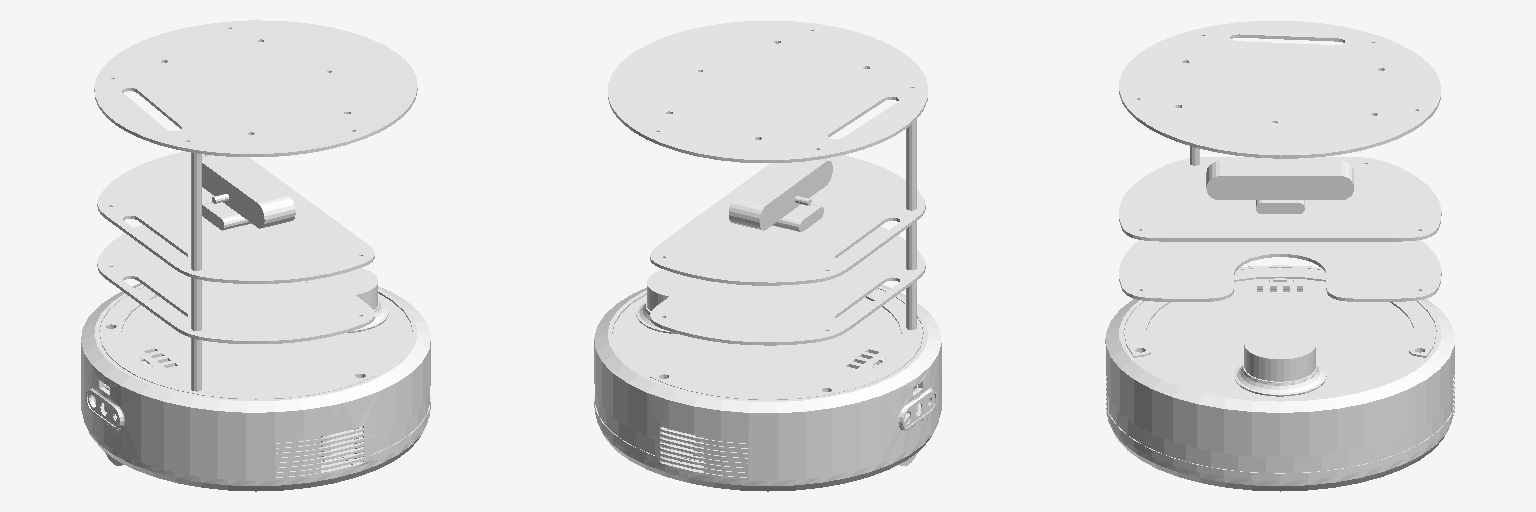
URDF robot description (carebot_description1):
<robot
  name="carebot_description1">
  <link name="base_footprint"/>
    <joint name="base_joint" type="fixed">
      <origin xyz="0 0 0" rpy="0 0 0" />
      <parent link="base_footprint"/>
      <child link="base_link" />
    </joint>

  <link
    name="base_link">
    <inertial>
      <origin
        xyz="0.024903284833047 -0.00014602222240669 0.0111634362268896"
        rpy="0 0 0" />
      <mass
        value="0.595914690979937" />
      <inertia
        ixx="0.00522656520347693"
        ixy="4.02523507836851E-06"
        ixz="-0.00048118297823134"
        iyy="0.00728929772561802"
        iyz="2.59729727000594E-07"
        izz="0.012200723823674" />
    </inertial>
    <visual>
      <origin
        xyz="0 0 0"
        rpy="0 0 0" />
      <geometry>
        <mesh
          filename="package://carebot_description1/meshes/base_link.STL" />
      </geometry>
      <material
        name="">
        <color
          rgba="1 1 1 1" />
      </material>
    </visual>
    <collision>
      <origin
        xyz="0 0 0"
        rpy="0 0 0" />
      <geometry>
        <mesh
          filename="package://carebot_description1/meshes/base_link.STL" />
      </geometry>
    </collision>
  </link>
  <link
    name="laser">
    <inertial>
      <origin
        xyz="-4.00300533663356E-05 -2.75750536564674E-12 0.0273939580144463"
        rpy="0 0 0" />
      <mass
        value="0.277021525910617" />
      <inertia
        ixx="0.000181393488701386"
        ixy="-2.48933596681912E-14"
        ixz="-2.21710066207303E-07"
        iyy="0.000181923161760163"
        iyz="-1.49043520498021E-14"
        izz="0.00022304651986896" />
    </inertial>
    <visual>
      <origin
        xyz="0 0 0"
        rpy="0 0 0" />
      <geometry>
        <mesh
          filename="package://carebot_description1/meshes/laser_Link.STL" />
      </geometry>
      <material
        name="">
        <color
          rgba="1 1 1 1" />
      </material>
    </visual>
    <collision>
      <origin
        xyz="0 0 0"
        rpy="0 0 0" />
      <geometry>
        <mesh
          filename="package://carebot_description1/meshes/laser_Link.STL" />
      </geometry>
    </collision>
  </link>
  <joint
    name="laser_joint"
    type="fixed">
    <origin
      xyz="0.111 0 0.09015"
      rpy="0 0 0" />
    <parent
      link="base_link" />
    <child
      link="laser" />
    <axis
      xyz="0 0 0" />
  </joint>
  <link
    name="base_hat_Link">
    <inertial>
      <origin
        xyz="-0.00610720296437034 -9.08614623431942E-06 -0.0235153078797355"
        rpy="0 0 0" />
      <mass
        value="0.742499945276113" />
      <inertia
        ixx="0.0116848070455358"
        ixy="-1.28337799467446E-06"
        ixz="-1.05145739362938E-05"
        iyy="0.0119664975616478"
        iyz="-1.38581232662936E-07"
        izz="0.022452196921704" />
    </inertial>
    <visual>
      <origin
        xyz="0 0 0"
        rpy="0 0 0" />
      <geometry>
        <mesh
          filename="package://carebot_description1/meshes/base_hat_Link.STL" />
      </geometry>
      <material
        name="">
        <color
          rgba="1 1 1 1" />
      </material>
    </visual>
    <collision>
      <origin
        xyz="0 0 0"
        rpy="0 0 0" />
      <geometry>
        <mesh
          filename="package://carebot_description1/meshes/base_hat_Link.STL" />
      </geometry>
    </collision>
  </link>
  <joint
    name="base_hat_joint"
    type="fixed">
    <origin
      xyz="0 0 0.1027"
      rpy="0 0 0" />
    <parent
      link="base_link" />
    <child
      link="base_hat_Link" />
    <axis
      xyz="0 0 0" />
  </joint>
  <link
    name="first_table_Link">
    <inertial>
      <origin
        xyz="0.0791331383427724 -1.13022359592568E-05 -0.00199999845225846"
        rpy="0 0 0" />
      <mass
        value="0.223559101210713" />
      <inertia
        ixx="0.00248385367385229"
        ixy="-2.63316655010906E-07"
        ixz="-3.1361007890838E-11"
        iyy="0.000734998029393872"
        iyz="5.68455542403095E-11"
        izz="0.00321825554377076" />
    </inertial>
    <visual>
      <origin
        xyz="0 0 0"
        rpy="0 0 0" />
      <geometry>
        <mesh
          filename="package://carebot_description1/meshes/first_table_Link.STL" />
      </geometry>
      <material
        name="">
        <color
          rgba="1 1 1 1" />
      </material>
    </visual>
    <collision>
      <origin
        xyz="0 0 0"
        rpy="0 0 0" />
      <geometry>
        <mesh
          filename="package://carebot_description1/meshes/first_table_Link.STL" />
      </geometry>
    </collision>
  </link>
  <joint
    name="first_table_joint"
    type="fixed">
    <origin
      xyz="-0.120039065504002 0 0.0779"
      rpy="0 0 9.271537700107E-14" />
    <parent
      link="base_hat_Link" />
    <child
      link="first_table_Link" />
    <axis
      xyz="0 0 0" />
  </joint>
  <link
    name="stick_1_Link">
    <inertial>
      <origin
        xyz="0 0 0.151"
        rpy="0 0 0" />
      <mass
        value="0.0341553953298282" />
      <inertia
        ixx="0.000259899788196439"
        ixy="2.34797592342236E-39"
        ixz="-6.02624444774681E-38"
        iyy="0.000259899788196439"
        iyz="-5.97998161350029E-38"
        izz="6.14797115936908E-07" />
    </inertial>
    <visual>
      <origin
        xyz="0 0 0"
        rpy="0 0 0" />
      <geometry>
        <mesh
          filename="package://carebot_description1/meshes/stick_1_Link.STL" />
      </geometry>
      <material
        name="">
        <color
          rgba="1 1 1 1" />
      </material>
    </visual>
    <collision>
      <origin
        xyz="0 0 0"
        rpy="0 0 0" />
      <geometry>
        <mesh
          filename="package://carebot_description1/meshes/stick_1_Link.STL" />
      </geometry>
    </collision>
  </link>
  <joint
    name="stick_1_joint"
    type="fixed">
    <origin
      xyz="-0.1310607530887 -0.09522121087137 0.0039"
      rpy="0 0 -1.5707963267949" />
    <parent
      link="base_hat_Link" />
    <child
      link="stick_1_Link" />
    <axis
      xyz="0 0 0" />
  </joint>
  <link
    name="stick_2_Link">
    <inertial>
      <origin
        xyz="0 0 0.151"
        rpy="0 0 0" />
      <mass
        value="0.0341553953298282" />
      <inertia
        ixx="0.000259899788196439"
        ixy="2.34797592342236E-39"
        ixz="-6.02624444774681E-38"
        iyy="0.000259899788196439"
        iyz="-5.97998161350029E-38"
        izz="6.14797115936908E-07" />
    </inertial>
    <visual>
      <origin
        xyz="0 0 0"
        rpy="0 0 0" />
      <geometry>
        <mesh
          filename="package://carebot_description1/meshes/stick_2_Link.STL" />
      </geometry>
      <material
        name="">
        <color
          rgba="1 1 1 1" />
      </material>
    </visual>
    <collision>
      <origin
        xyz="0 0 0"
        rpy="0 0 0" />
      <geometry>
        <mesh
          filename="package://carebot_description1/meshes/stick_2_Link.STL" />
      </geometry>
    </collision>
  </link>
  <joint
    name="stick_2_joint"
    type="fixed">
    <origin
      xyz="0.04465325164232 -0.155724394742 0.0039"
      rpy="0 0 -1.5707963267949" />
    <parent
      link="base_hat_Link" />
    <child
      link="stick_2_Link" />
    <axis
      xyz="0 0 0" />
  </joint>
  <link
    name="stick_3_Link">
    <inertial>
      <origin
        xyz="0 6.93889390390723E-18 0.151"
        rpy="0 0 0" />
      <mass
        value="0.0341553953298282" />
      <inertia
        ixx="0.000259899788196439"
        ixy="2.34797592342236E-39"
        ixz="-6.02624444774681E-38"
        iyy="0.000259899788196439"
        iyz="-5.97998161350029E-38"
        izz="6.14797115936908E-07" />
    </inertial>
    <visual>
      <origin
        xyz="0 0 0"
        rpy="0 0 0" />
      <geometry>
        <mesh
          filename="package://carebot_description1/meshes/stick_3_Link.STL" />
      </geometry>
      <material
        name="">
        <color
          rgba="1 1 1 1" />
      </material>
    </visual>
    <collision>
      <origin
        xyz="0 0 0"
        rpy="0 0 0" />
      <geometry>
        <mesh
          filename="package://carebot_description1/meshes/stick_3_Link.STL" />
      </geometry>
    </collision>
  </link>
  <joint
    name="stick_3_joint"
    type="fixed">
    <origin
      xyz="0.04465325164229 0.155724394742 0.0039"
      rpy="0 0 -1.5707963267949" />
    <parent
      link="base_hat_Link" />
    <child
      link="stick_3_Link" />
    <axis
      xyz="0 0 0" />
  </joint>
  <link
    name="stick_4_Link">
    <inertial>
      <origin
        xyz="-1.38777878078145E-17 0 0.151"
        rpy="0 0 0" />
      <mass
        value="0.0341553953298282" />
      <inertia
        ixx="0.000259899788196439"
        ixy="2.34797592342236E-39"
        ixz="-6.02624444774681E-38"
        iyy="0.000259899788196439"
        iyz="-5.97998161350029E-38"
        izz="6.14797115936908E-07" />
    </inertial>
    <visual>
      <origin
        xyz="0 0 0"
        rpy="0 0 0" />
      <geometry>
        <mesh
          filename="package://carebot_description1/meshes/stick_4_Link.STL" />
      </geometry>
      <material
        name="">
        <color
          rgba="1 1 1 1" />
      </material>
    </visual>
    <collision>
      <origin
        xyz="0 0 0"
        rpy="0 0 0" />
      <geometry>
        <mesh
          filename="package://carebot_description1/meshes/stick_4_Link.STL" />
      </geometry>
    </collision>
  </link>
  <joint
    name="stick_4_joint"
    type="fixed">
    <origin
      xyz="-0.1310607530887 0.09522121087133 0.0039"
      rpy="0 0 -1.5707963267949" />
    <parent
      link="base_hat_Link" />
    <child
      link="stick_4_Link" />
    <axis
      xyz="0 0 0" />
  </joint>
  <link
    name="second_table_Link">
    <inertial>
      <origin
        xyz="0.0883317751189735 -9.40497788174045E-06 -0.0019999987118598"
        rpy="0 0 0" />
      <mass
        value="0.26863527838377" />
      <inertia
        ixx="0.00252319906285813"
        ixy="-2.86411608156052E-07"
        ixz="-2.81746369140382E-11"
        iyy="0.00089492693755032"
        iyz="5.72324061839426E-11"
        izz="0.00341740963801619" />
    </inertial>
    <visual>
      <origin
        xyz="0 0 0"
        rpy="0 0 0" />
      <geometry>
        <mesh
          filename="package://carebot_description1/meshes/second_table_Link.STL" />
      </geometry>
      <material
        name="">
        <color
          rgba="1 1 1 1" />
      </material>
    </visual>
    <collision>
      <origin
        xyz="0 0 0"
        rpy="0 0 0" />
      <geometry>
        <mesh
          filename="package://carebot_description1/meshes/second_table_Link.STL" />
      </geometry>
    </collision>
  </link>
  <joint
    name="second_table_joint"
    type="fixed">
    <origin
      xyz="-0.12003906550401 0 0.1519"
      rpy="0 0 8.815278692591E-14" />
    <parent
      link="base_hat_Link" />
    <child
      link="second_table_Link" />
    <axis
      xyz="0 0 0" />
  </joint>
  <link
    name="kienct_Link">
    <inertial>
      <origin
        xyz="0.000479654100297707 3.03011478501445E-18 0.0274371520370291"
        rpy="0 0 0" />
      <mass
        value="0.236045799946768" />
      <inertia
        ixx="0.000448140589706123"
        ixy="5.18283873422026E-20"
        ixz="-8.95416429479664E-06"
        iyy="8.02087444050617E-05"
        iyz="-1.26265414404809E-20"
        izz="0.00045408447216537" />
    </inertial>
    <visual>
      <origin
        xyz="0 0 0"
        rpy="0 0 0" />
      <geometry>
        <mesh
          filename="package://carebot_description1/meshes/kienct_Link.STL" />
      </geometry>
      <material
        name="">
        <color
          rgba="1 1 1 1" />
      </material>
    </visual>
    <collision>
      <origin
        xyz="0 0 0"
        rpy="0 0 0" />
      <geometry>
        <mesh
          filename="package://carebot_description1/meshes/kienct_Link.STL" />
      </geometry>
    </collision>
  </link>
  <joint
    name="kinect_joint"
    type="fixed">
    <origin
      xyz="0.101031470578425 0 0"
      rpy="0 0 -8.815278692591E-14" />
    <parent
      link="second_table_Link" />
    <child
      link="kienct_Link" />
    <axis
      xyz="0 0 0" />
  </joint>
  <link
    name="top_table_Link">
    <inertial>
      <origin
        xyz="0.122966380072355 1.064758082224E-08 -0.00199999964031372"
        rpy="0 0 0" />
      <mass
        value="0.397073995934417" />
      <inertia
        ixx="0.00327472174182037"
        ixy="-2.31425591764147E-08"
        ixz="4.24825732453721E-13"
        iyy="0.00314002427269764"
        iyz="-1.73336395633273E-14"
        izz="0.00641368715525247" />
    </inertial>
    <visual>
      <origin
        xyz="0 0 0"
        rpy="0 0 0" />
      <geometry>
        <mesh
          filename="package://carebot_description1/meshes/top_table_Link.STL" />
      </geometry>
      <material
        name="">
        <color
          rgba="1 1 1 1" />
      </material>
    </visual>
    <collision>
      <origin
        xyz="0 0 0"
        rpy="0 0 0" />
      <geometry>
        <mesh
          filename="package://carebot_description1/meshes/top_table_Link.STL" />
      </geometry>
    </collision>
  </link>
  <joint
    name="top_table_joint"
    type="fixed">
    <origin
      xyz="-0.119788925762066 0.00789069439565915 0.305214363923217"
      rpy="-0.0134894624739537 -0.0057100160564083 -0.0655518415027034" />
    <parent
      link="base_hat_Link" />
    <child
      link="top_table_Link" />
    <axis
      xyz="0 0 0" />
  </joint>
  <link
    name="wheel_1_Link">
    <inertial>
      <origin
        xyz="0 0 0.0125215844252514"
        rpy="0 0 0" />
      <mass
        value="0.068043638259775" />
      <inertia
        ixx="1.89549304840939E-05"
        ixy="-3.34285907530722E-23"
        ixz="-8.470329472543E-22"
        iyy="1.89549304840939E-05"
        iyz="5.22338927097231E-23"
        izz="3.03201576714331E-05" />
    </inertial>
    <visual>
      <origin
        xyz="0 0 0"
        rpy="0 0 0" />
      <geometry>
        <mesh
          filename="package://carebot_description1/meshes/wheel_1_Link.STL" />
      </geometry>
      <material
        name="">
        <color
          rgba="1 1 1 1" />
      </material>
    </visual>
    <collision>
      <origin
        xyz="0 0 0"
        rpy="0 0 0" />
      <geometry>
        <mesh
          filename="package://carebot_description1/meshes/wheel_1_Link.STL" />
      </geometry>
    </collision>
  </link>
  <joint
    name="wheel_1_joint"
    type="fixed">
    <origin
      xyz="0.0915000000000019 0.158482648892555 0.018"
      rpy="1.5707963267949 0 -0.523598775598318" />
    <parent
      link="base_link" />
    <child
      link="wheel_1_Link" />
    <axis
      xyz="0 0 0" />
  </joint>
  <link
    name="wheel_3_Link">
    <inertial>
      <origin
        xyz="-1.64418307623689E-35 3.46944695195361E-18 0.0125215844252514"
        rpy="0 0 0" />
      <mass
        value="0.068043638259775" />
      <inertia
        ixx="1.89549304840939E-05"
        ixy="-1.04765710695404E-37"
        ixz="-5.80634796152453E-38"
        iyy="1.89549304840939E-05"
        iyz="2.5420325014116E-23"
        izz="3.0320157671433E-05" />
    </inertial>
    <visual>
      <origin
        xyz="0 0 0"
        rpy="0 0 0" />
      <geometry>
        <mesh
          filename="package://carebot_description1/meshes/wheel_3_Link.STL" />
      </geometry>
      <material
        name="">
        <color
          rgba="1 1 1 1" />
      </material>
    </visual>
    <collision>
      <origin
        xyz="0 0 0"
        rpy="0 0 0" />
      <geometry>
        <mesh
          filename="package://carebot_description1/meshes/wheel_3_Link.STL" />
      </geometry>
    </collision>
  </link>
  <joint
    name="wheel_3_joint"
    type="fixed">
    <origin
      xyz="-0.183 0 0.018"
      rpy="1.5707963267949 0 1.5707963267949" />
    <parent
      link="base_link" />
    <child
      link="wheel_3_Link" />
    <axis
      xyz="0 0 0" />
  </joint>
  <link
    name="wheel_2_Link">
    <inertial>
      <origin
        xyz="0 0 0.0125215844252514"
        rpy="0 0 0" />
      <mass
        value="0.068043638259775" />
      <inertia
        ixx="1.89549304840939E-05"
        ixy="3.3428590753072E-23"
        ixz="8.470329472543E-22"
        iyy="1.89549304840939E-05"
        iyz="4.77087625093686E-23"
        izz="3.03201576714331E-05" />
    </inertial>
    <visual>
      <origin
        xyz="0 0 0"
        rpy="0 0 0" />
      <geometry>
        <mesh
          filename="package://carebot_description1/meshes/wheel_2_Link.STL" />
      </geometry>
      <material
        name="">
        <color
          rgba="1 1 1 1" />
      </material>
    </visual>
    <collision>
      <origin
        xyz="0 0 0"
        rpy="0 0 0" />
      <geometry>
        <mesh
          filename="package://carebot_description1/meshes/wheel_2_Link.STL" />
      </geometry>
    </collision>
  </link>
  <joint
    name="wheel_2_joint"
    type="fixed">
    <origin
      xyz="0.0915000000000019 -0.158482648892555 0.018"
      rpy="1.5707963267949 0 -2.61799387799147" />
    <parent
      link="base_link" />
    <child
      link="wheel_2_Link" />
    <axis
      xyz="0 0 0" />
  </joint>
  <link
    name="base_imu_link">
    <inertial>
      <origin
        xyz="-0.00044101726276663 0.000312652855270691 0.000890474250173828"
        rpy="0 0 0" />
      <mass
        value="0.000676197065822134" />
      <inertia
        ixx="1.68999752365962E-08"
        ixy="3.09266645125064E-10"
        ixz="3.0674755430617E-10"
        iyy="2.95758218370792E-08"
        iyz="-2.28339110536919E-10"
        izz="4.60107426403964E-08" />
    </inertial>
    <visual>
      <origin
        xyz="0 0 0"
        rpy="0 0 0" />
      <geometry>
        <mesh
          filename="package://carebot_description1/meshes/imu_Link.STL" />
      </geometry>
      <material
        name="">
        <color
          rgba="1 1 1 1" />
      </material>
    </visual>
    <collision>
      <origin
        xyz="0 0 0"
        rpy="0 0 0" />
      <geometry>
        <mesh
          filename="package://carebot_description1/meshes/imu_Link.STL" />
      </geometry>
    </collision>
  </link>
  <joint
    name="imu_joint"
    type="fixed">
    <origin
      xyz="0.16595 0 0.0681"
      rpy="0 0 0" />
    <parent
      link="base_link" />
    <child
      link="base_imu_link" />
    <axis
      xyz="0 0 0" />
  </joint>
</robot>

--- What the picture shows (computed from the rendered views, not written in the file) ---
3 views of the same robot in one strip: view 1: azimuth 30°, elevation 25°; view 2: azimuth 150°, elevation 25°; view 3: azimuth 270°, elevation 25° (orthographic).
Model carebot_description1 with 16 links and 15 joints (15 fixed), rooted at base_footprint, posed all joints at 0.
Visible links, largest first — view 1: base_hat_Link, top_table_Link, second_table_Link, first_table_Link, kienct_Link, base_link, stick_1_Link, laser; view 2: base_hat_Link, top_table_Link, second_table_Link, first_table_Link, kienct_Link, base_link, stick_1_Link, laser; view 3: base_hat_Link, top_table_Link, second_table_Link, first_table_Link, kienct_Link, laser, base_link.
Link boxes in pixels (bbox=[...]): base_hat_Link: bbox=[81, 281, 430, 480]; top_table_Link: bbox=[94, 20, 417, 156]; second_table_Link: bbox=[97, 151, 374, 283]; first_table_Link: bbox=[97, 224, 374, 343]; kienct_Link: bbox=[202, 155, 295, 230]; base_link: bbox=[84, 361, 427, 491]; stick_1_Link: bbox=[191, 152, 201, 391]; laser: bbox=[306, 268, 377, 310]; base_hat_Link: bbox=[594, 282, 941, 480]; top_table_Link: bbox=[608, 20, 927, 162]; second_table_Link: bbox=[650, 155, 925, 285]; first_table_Link: bbox=[650, 226, 925, 345]; kienct_Link: bbox=[729, 159, 832, 231]; base_link: bbox=[597, 362, 938, 491]; stick_1_Link: bbox=[906, 120, 916, 329]; laser: bbox=[647, 270, 717, 311]; base_hat_Link: bbox=[1105, 265, 1454, 480]; top_table_Link: bbox=[1119, 20, 1440, 158]; second_table_Link: bbox=[1119, 157, 1441, 241]; first_table_Link: bbox=[1119, 240, 1441, 301]; kienct_Link: bbox=[1206, 161, 1353, 213]; laser: bbox=[1244, 329, 1315, 381]; base_link: bbox=[1108, 418, 1452, 491].
Bounding box of the posed robot: 0.392 × 0.3893 × 0.423 m (x, y, z).
10 mesh visuals loaded from 15 distinct referenced files (10 binary STL); not drawn: 5 (reference not matched to a file when rendering).